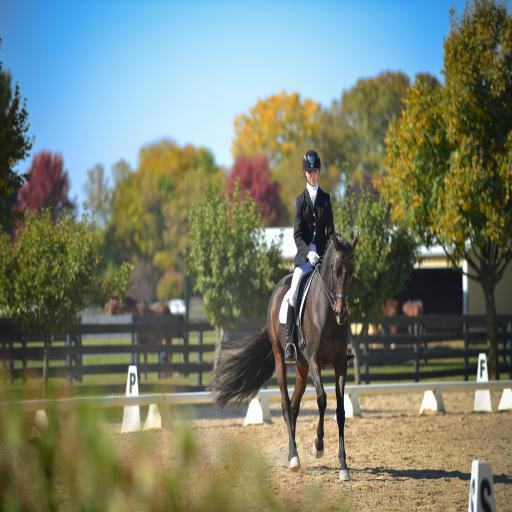Horse: (204, 227, 359, 487)
